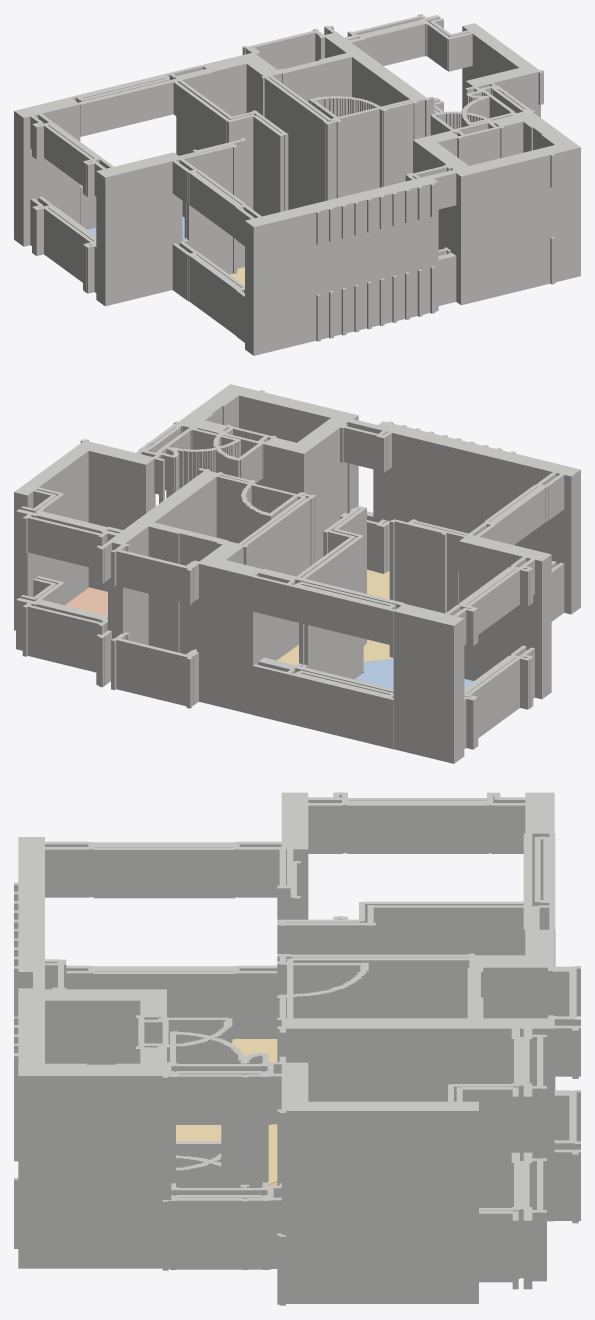
3 renders of one model, top to bottom at view 1: azimuth 30°, elevation 25°; view 2: azimuth 150°, elevation 25°; view 3: azimuth 270°, elevation 25°, orthographic. The views are drawn at different scales.
Parts seen in each view (by area): view 1: walls; view 2: walls, room:living:4, room:bedroom:2, room:kitchen:3; view 3: walls, room:living:4.
Boxes of the visible parts, box(x1,y1,x2,y2) form: walls: box(14, 14, 580, 355); walls: box(14, 384, 580, 763); room:living:4: box(277, 569, 393, 664); room:bedroom:2: box(354, 658, 473, 688); room:kitchen:3: box(65, 587, 107, 615); walls: box(14, 792, 580, 1305); room:living:4: box(176, 1038, 277, 1184).
Size of the model in its own units: 9.98 by 2.8 by 7.46.
